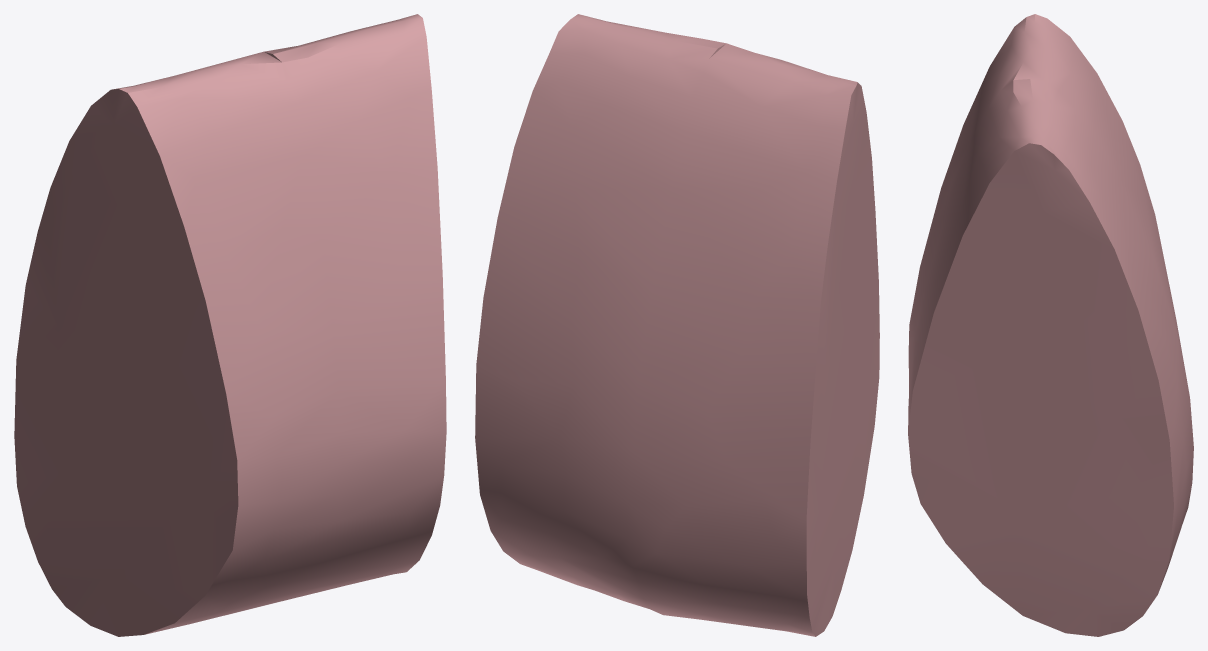
File: fma71115_mm3602.glb
3 views of the same model, side by side, from view 1: azimuth 30°, elevation 25°; view 2: azimuth 150°, elevation 25°; view 3: azimuth 270°, elevation 25° (orthographic). The views are drawn at different scales.
Visible parts, largest first — view 1: FMA71115_MM3602; view 2: FMA71115_MM3602; view 3: FMA71115_MM3602.
Part boxes in pixels (x1=…): FMA71115_MM3602: x1=14, y1=14, x2=446, y2=636; FMA71115_MM3602: x1=475, y1=14, x2=879, y2=636; FMA71115_MM3602: x1=908, y1=14, x2=1193, y2=636.
Size of the model in its own units: 0.00265 by 0.00404 by 0.00209.
